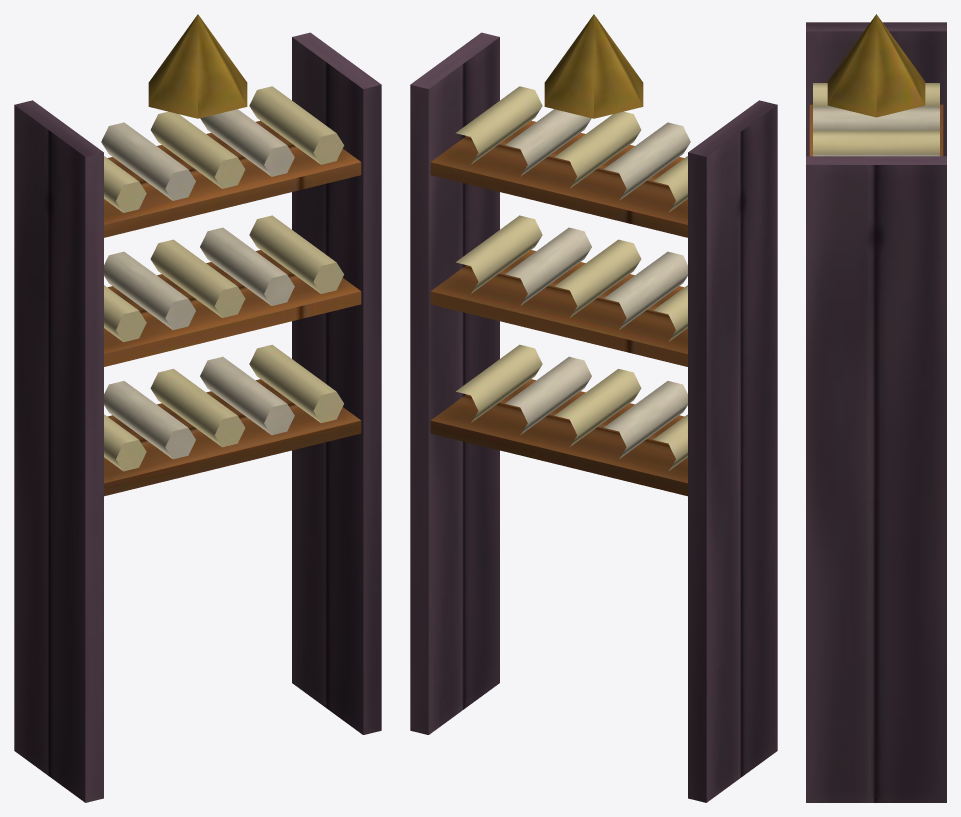
Rendered from scroll_rack.glb.
3 views of the same model, side by side, from view 1: azimuth 30°, elevation 25°; view 2: azimuth 150°, elevation 25°; view 3: azimuth 270°, elevation 25° (orthographic).
Parts seen in each view (by area): view 1: props_0_0; view 2: props_0_0; view 3: props_0_0.
Boxes of the visible parts, box(x1,y1,x2,y2) form: props_0_0: box(14, 14, 381, 802); props_0_0: box(410, 14, 777, 802); props_0_0: box(806, 14, 946, 802).
Bounding box in the file's own units: 0.96 × 2.25 × 0.4.
Materials: 2 (2 with a texture image).
